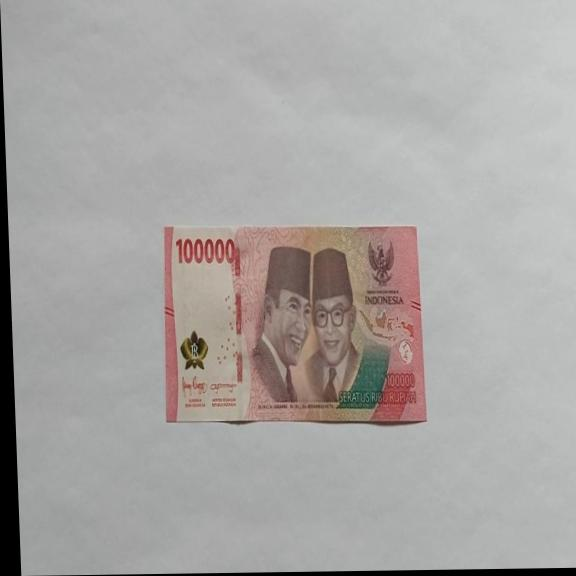Kertas: (159, 220, 427, 427), (174, 234, 236, 266)
